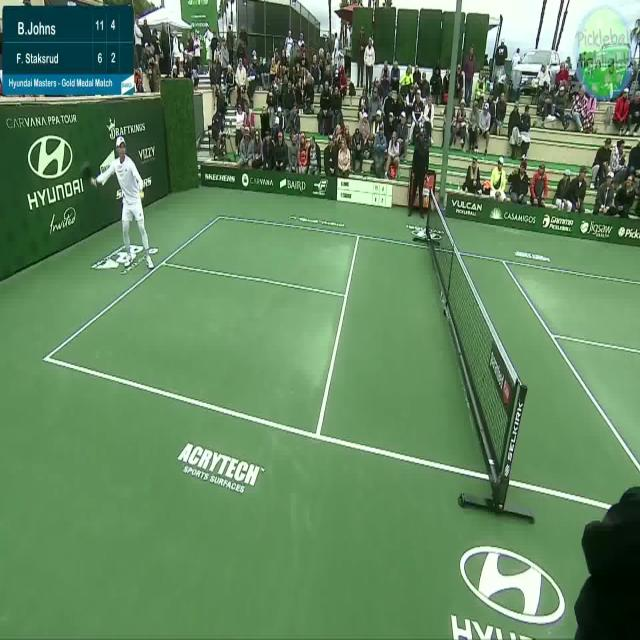ball: (135, 184, 147, 204)
